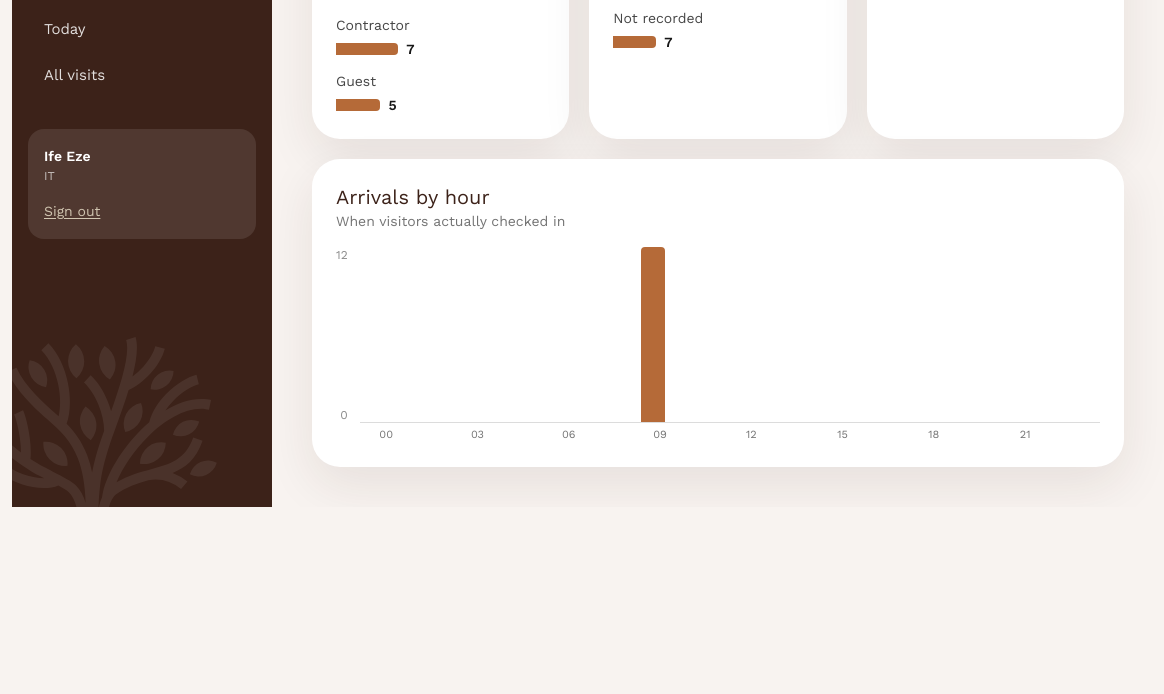
Test: hovering a column shows its tooltip
The image size is (1164, 694).
(page scrolled)
Hover over the picture named "09:00–10:00 · 12 arrivals" at (653, 334), box [641,247,665,422]
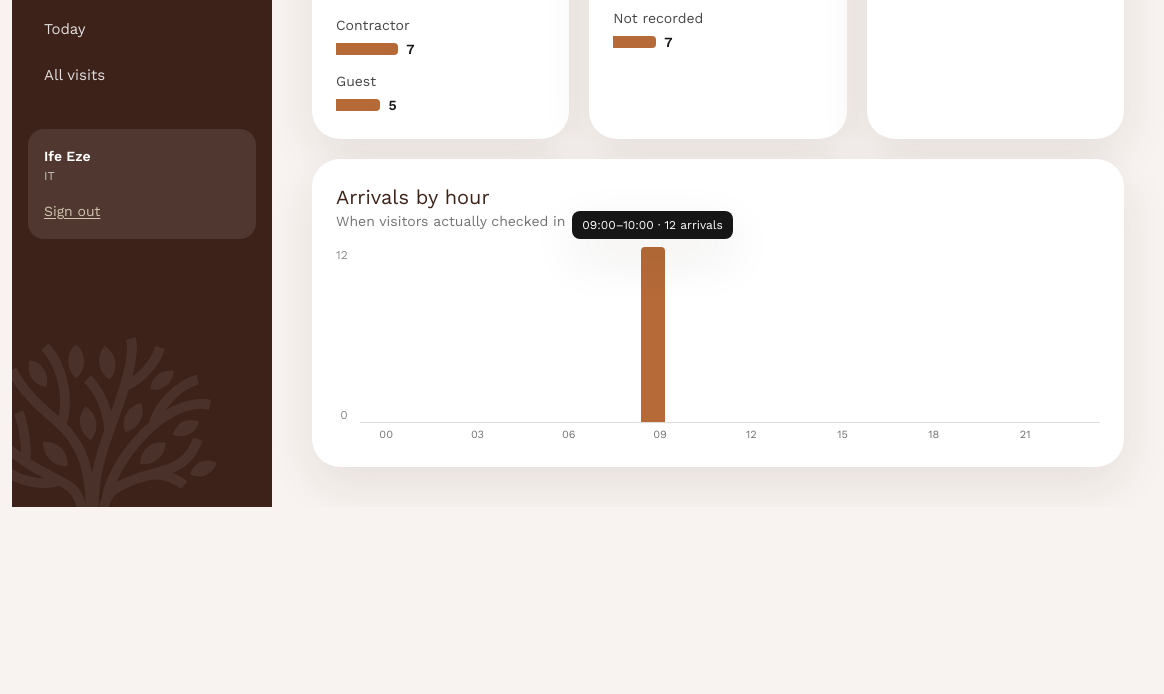
Expected: the tooltip reads "09:00–10:00 · 12 arrivals", [582,218,723,232]
